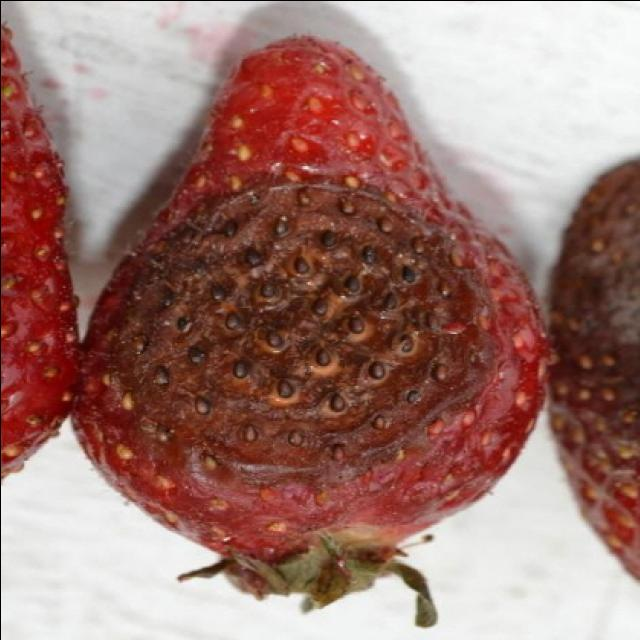Anthracnose Fruit Rot: (101, 175, 505, 491)
